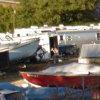Boat: (21, 52, 99, 92)
